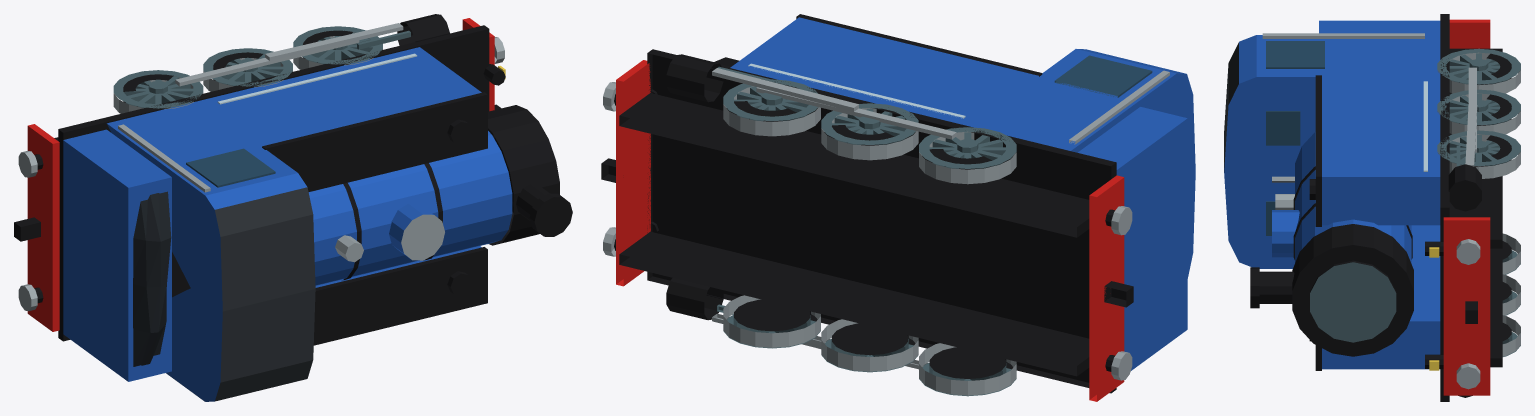
3 renders of one model, left to right at view 1: azimuth 30°, elevation 25°; view 2: azimuth 150°, elevation 25°; view 3: azimuth 270°, elevation 25°, orthographic. The views are drawn at different scales.
Visible parts, largest first — view 1: default_cab, default_bunker, default_boiler, default_tank1, default_tank_lip1, default_tank_lip-1, default_running_plate, default_bunker_coal, default_beam_back, default_smokebox, default_driver01, default_dome (+13 smaller); view 2: default_running_plate, default_frame-1, default_bunker, default_frame1, default_tank1, default_cab, default_beam_back, default_beam_front, default_driver01, default_driver2-1, default_driver0-1, default_driver1-1 (+12 smaller); view 3: default_cab, default_tank1, default_smokebox, default_beam_front, default_smokebox_door, default_tank-1, default_boiler, default_driver01, default_running_plate, default_driver11, default_driver21, default_frame1 (+22 smaller).
Boxes of the visible parts, x1,y1,x2,y2 form: default_cab: (107, 101, 315, 401); default_bunker: (63, 129, 171, 381); default_boiler: (308, 131, 512, 285); default_tank1: (200, 47, 481, 146); default_tank_lip1: (262, 92, 487, 191); default_tank_lip-1: (313, 247, 487, 345); default_running_plate: (58, 25, 489, 341); default_bunker_coal: (133, 191, 171, 366); default_beam_back: (27, 124, 59, 331); default_smokebox: (488, 105, 559, 245); default_driver01: (113, 70, 203, 113); default_dome: (389, 203, 444, 260); default_running_plate: (647, 49, 1116, 393); default_frame-1: (619, 231, 1089, 376); default_bunker: (1078, 107, 1187, 370); default_frame1: (619, 93, 1089, 237); default_tank1: (730, 17, 1038, 126); default_cab: (970, 49, 1195, 278); default_beam_back: (1089, 175, 1124, 401); default_beam_front: (616, 60, 650, 286); default_driver01: (919, 127, 1016, 184); default_driver2-1: (723, 295, 820, 348); default_driver0-1: (919, 343, 1016, 396); default_driver1-1: (821, 319, 918, 372); default_cab: (1224, 35, 1440, 268); default_tank1: (1322, 77, 1440, 225); default_smokebox: (1292, 224, 1413, 356); default_beam_front: (1443, 217, 1490, 395); default_smokebox_door: (1310, 260, 1396, 342); default_tank-1: (1322, 225, 1440, 369); default_boiler: (1295, 132, 1411, 263); default_driver01: (1437, 48, 1520, 93); default_running_plate: (1440, 14, 1449, 401); default_driver11: (1437, 89, 1520, 134); default_driver21: (1437, 130, 1520, 178); default_frame1: (1449, 48, 1502, 248).
Bounding box in the file's own units: 8.32 × 3.86 × 4.76.
